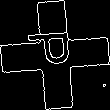P_E: (28, 35, 82, 75)
